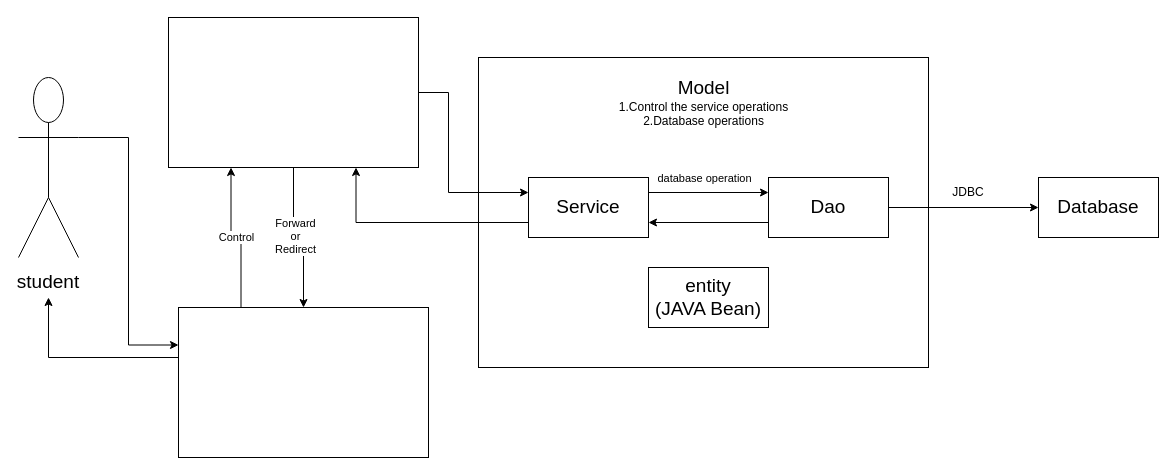
Some shapes in this 1176 by 475 pixel diagram are drawn without their labels. The shapes that lost their labels are listed below. From the top down, each one's centre as x and y in pixels, then its label:
(293,92): Controller 1.Accept user requests 2.Sending requests to the service 3.View Jump
(303,382): View 1.Display data model 2.Provide user operation
